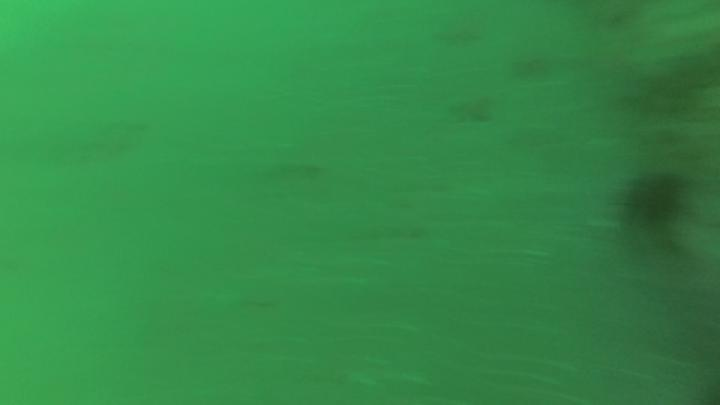echinus: (623, 169, 685, 240)
